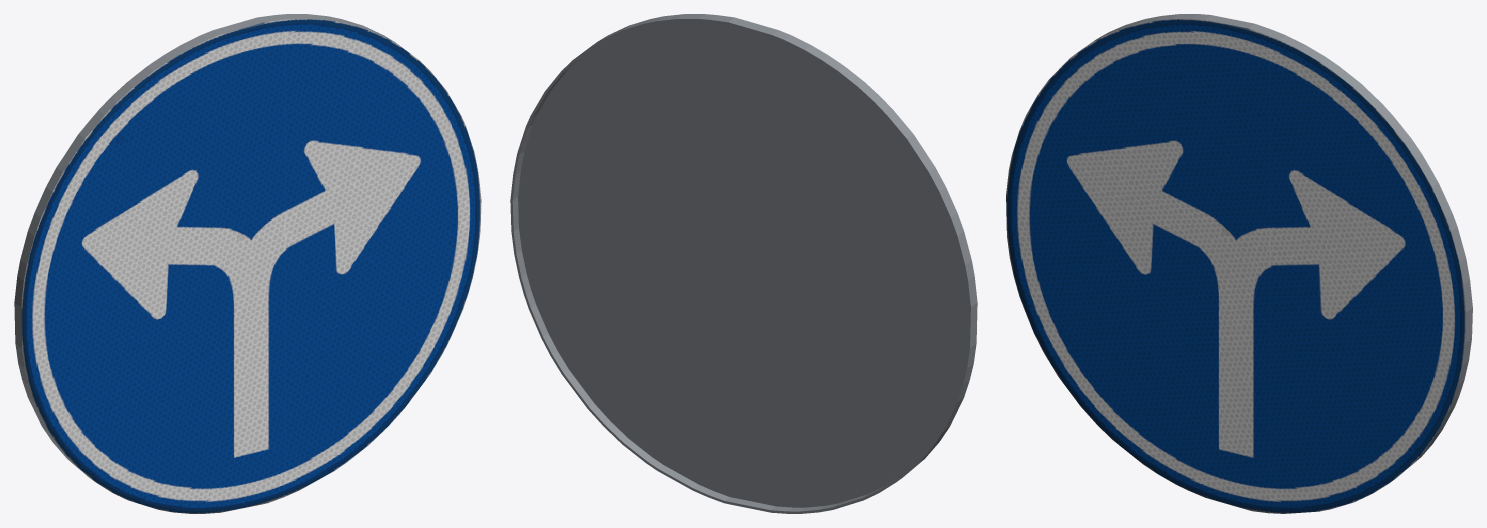
3 views of the same model, side by side, from view 1: azimuth 30°, elevation 25°; view 2: azimuth 150°, elevation 25°; view 3: azimuth 330°, elevation 25° (orthographic).
Parts seen in each view (by area): view 1: cat_2b72b8bb026a0002; view 2: cat_2b72b8bb026a0002; view 3: cat_2b72b8bb026a0002.
Part boxes in pixels (x1=…): cat_2b72b8bb026a0002: x1=14, y1=14, x2=481, y2=513; cat_2b72b8bb026a0002: x1=510, y1=14, x2=977, y2=513; cat_2b72b8bb026a0002: x1=1006, y1=14, x2=1472, y2=513.
Bounding box in the file's own units: 0.6 × 0.015 × 0.6.
2 materials, 1 textured.
